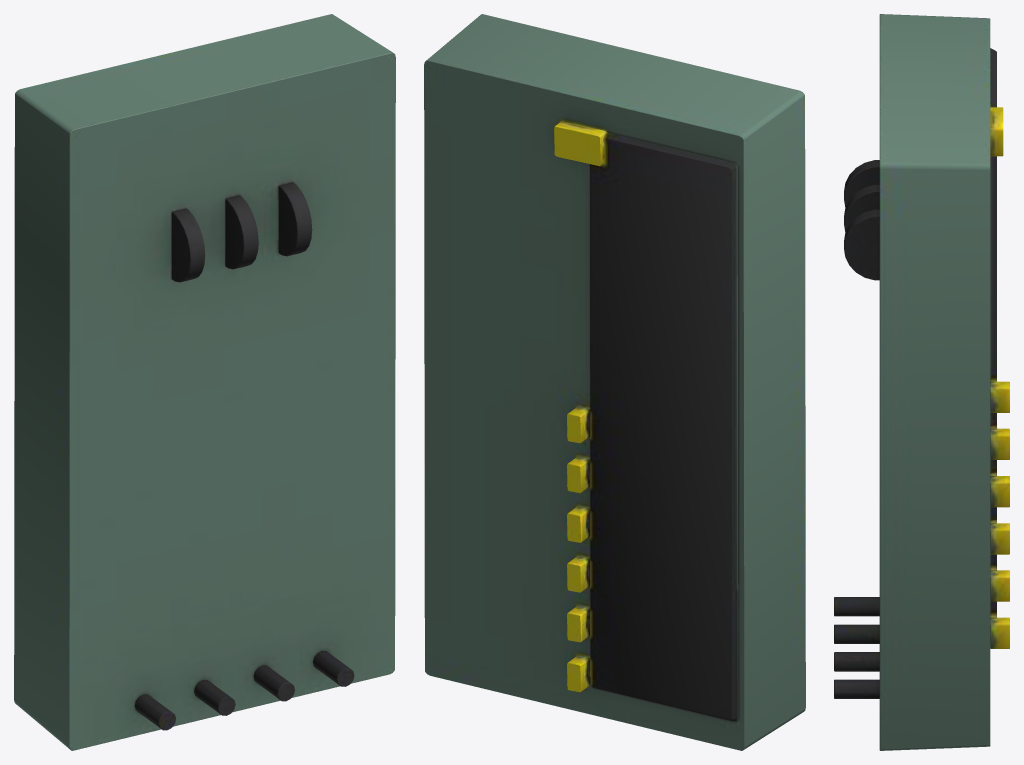
Rendered from LV_control_panel.glb.
3 views of the same model, side by side, from view 1: azimuth 30°, elevation 25°; view 2: azimuth 150°, elevation 25°; view 3: azimuth 270°, elevation 25° (orthographic). The views are drawn at different scales.
Parts seen in each view (by area): view 1: LV_control_panel; view 2: LV_control_panel; view 3: LV_control_panel.
Part boxes in pixels (x1,y1,x2,y2): LV_control_panel: (14,14,395,750); LV_control_panel: (424,14,805,750); LV_control_panel: (834,14,1009,750).
Size of the model in its own units: 1.1 by 2 by 0.54.
1 material, 1 textured.
